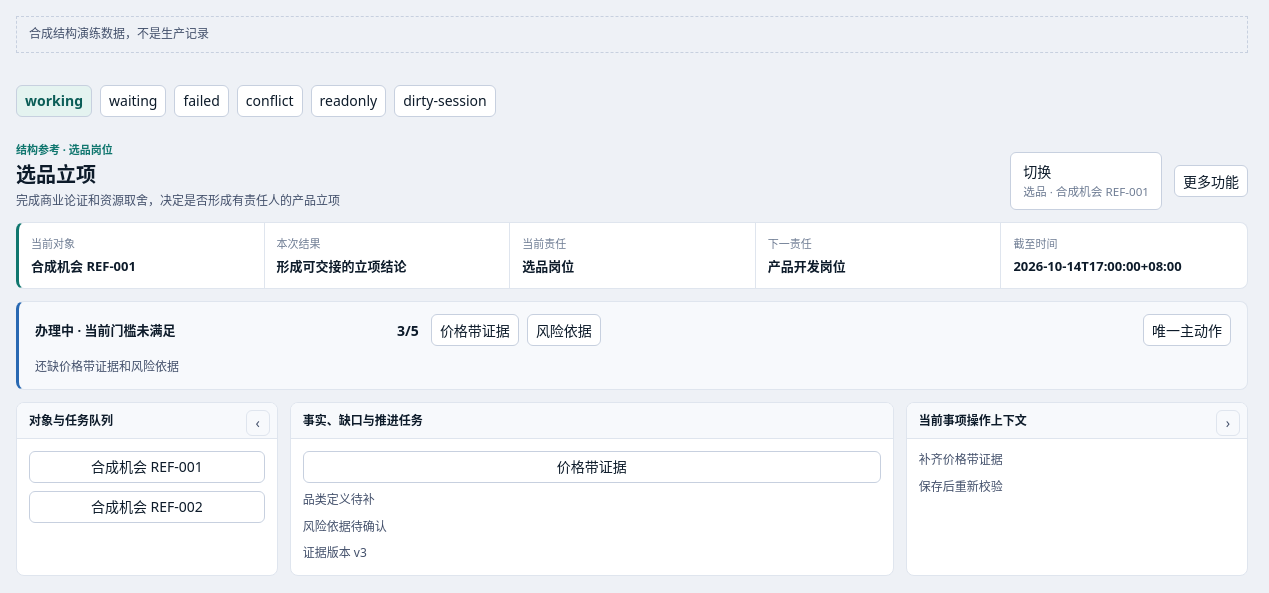
UniversalWorkbenchReferenceView › opens more-functions without changing the right-pane mode
The width and height of the screenshot is (1269, 593).
Click the button with aria-label "更多关联功能（结构参考）".
click(1211, 181)  # box [1174, 165, 1248, 197]
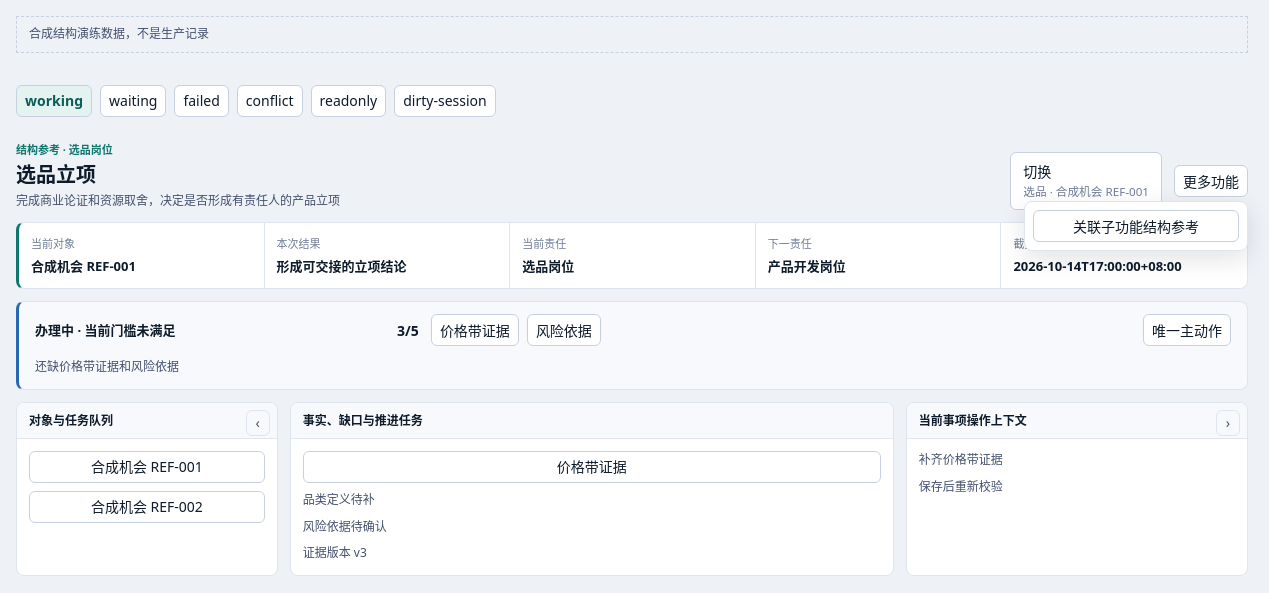
Expected: the text "关联子功能结构参考" is shown, [1033, 210, 1239, 242]
